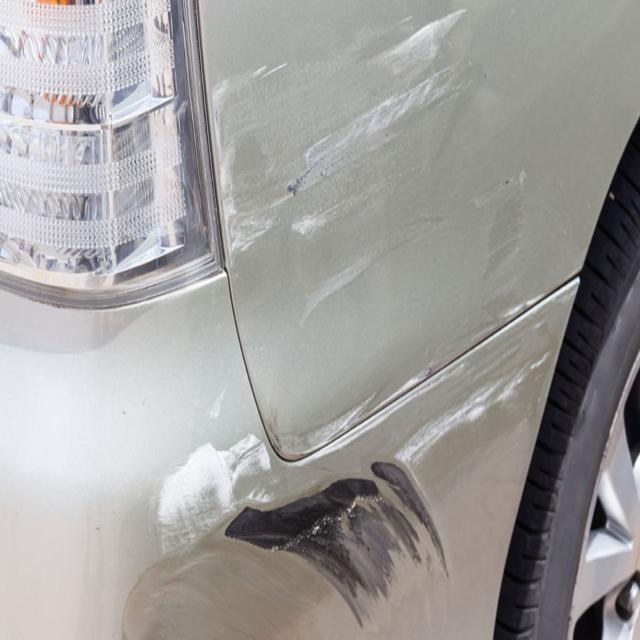scratch: (157, 283, 577, 630), (199, 3, 479, 268), (298, 166, 528, 336)
